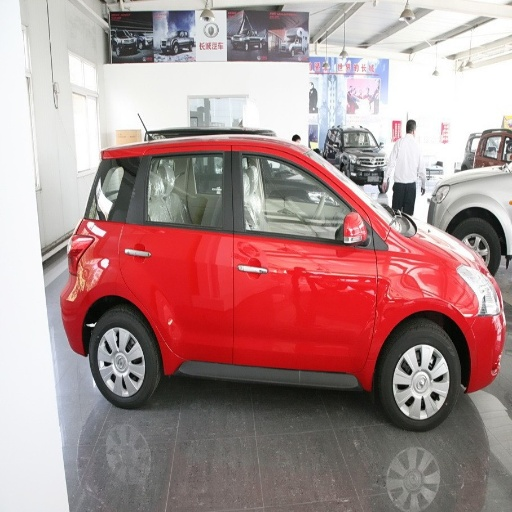back_right_door: (116, 144, 232, 358)
front_right_door: (234, 144, 377, 370)
